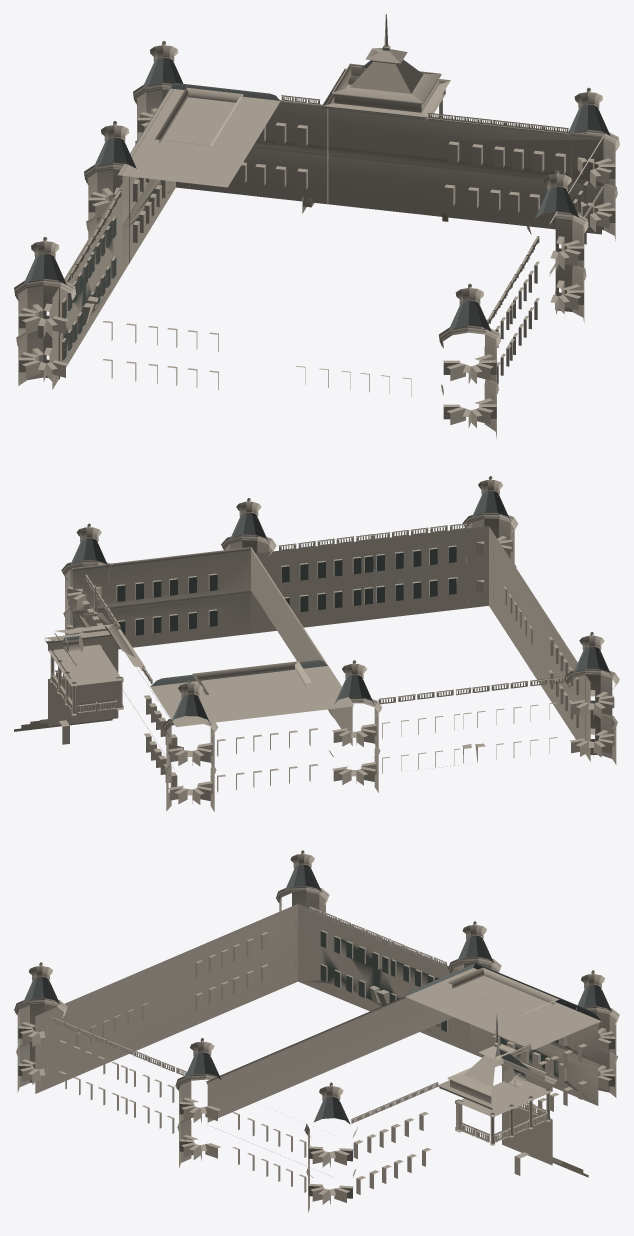
3 views of the same model, one above another, from view 1: azimuth 30°, elevation 25°; view 2: azimuth 150°, elevation 25°; view 3: azimuth 270°, elevation 25° (orthographic). The views are drawn at different scales.
Parts seen in each view (by area): view 1: polySurface35:PIV; view 2: polySurface35:PIV; view 3: polySurface35:PIV.
Part boxes in pixels (<box>): polySurface35:PIV: <box>14,14,619,438</box>; polySurface35:PIV: <box>14,476,619,811</box>; polySurface35:PIV: <box>14,850,619,1212</box>.
Bounding box in the file's own units: 65.16 × 19.33 × 65.44.
